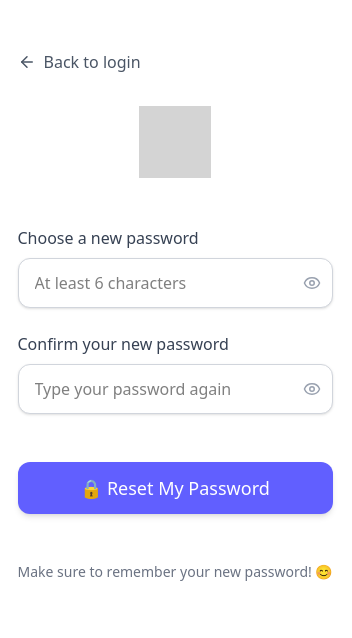
Scenario: ResetPassword Component › handles API error responses
Step 1. Type "validpassword" into the password field with test id "password-input" → point(175, 283), box x1=18 y1=258 x2=332 y2=308
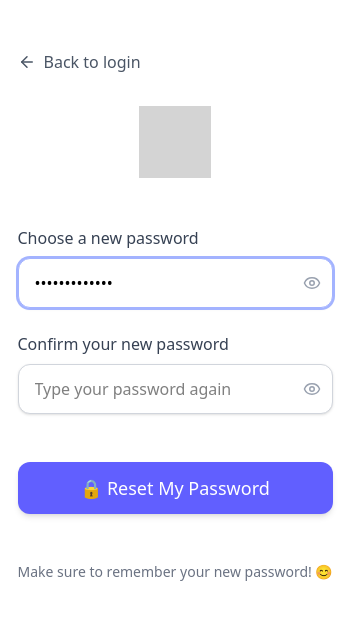
Step 2. Type "validpassword" into the password field with test id "confirm-password-input" → point(175, 389), box x1=18 y1=364 x2=332 y2=414
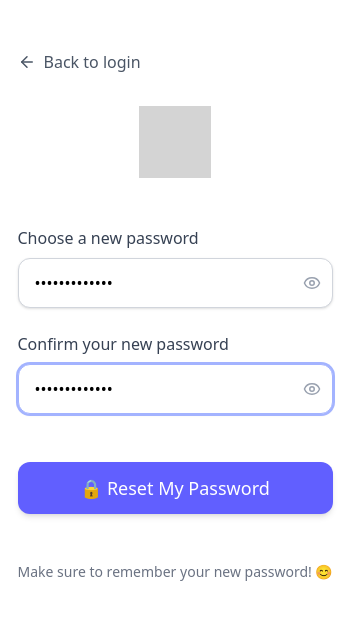
Step 3. Click the button with test id "reset-password-button" → point(175, 488), box x1=18 y1=462 x2=332 y2=514
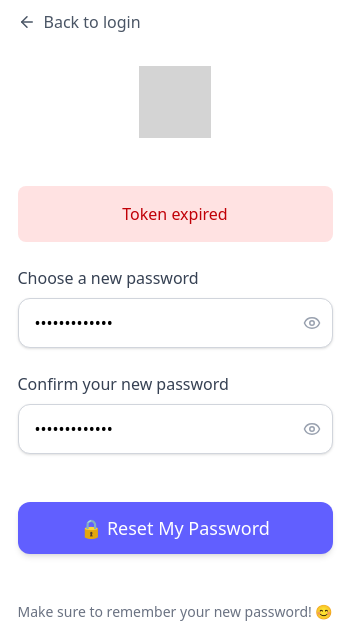
Check: the text "Token expired" is shown, box x1=18 y1=186 x2=332 y2=242
Check: the text with test id "error-message" reads "Token expired", box x1=122 y1=203 x2=228 y2=225
